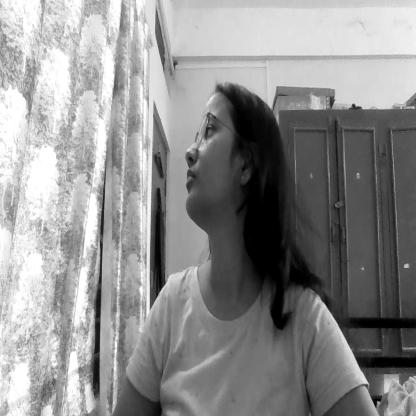Distracted: (182, 83, 275, 237)
